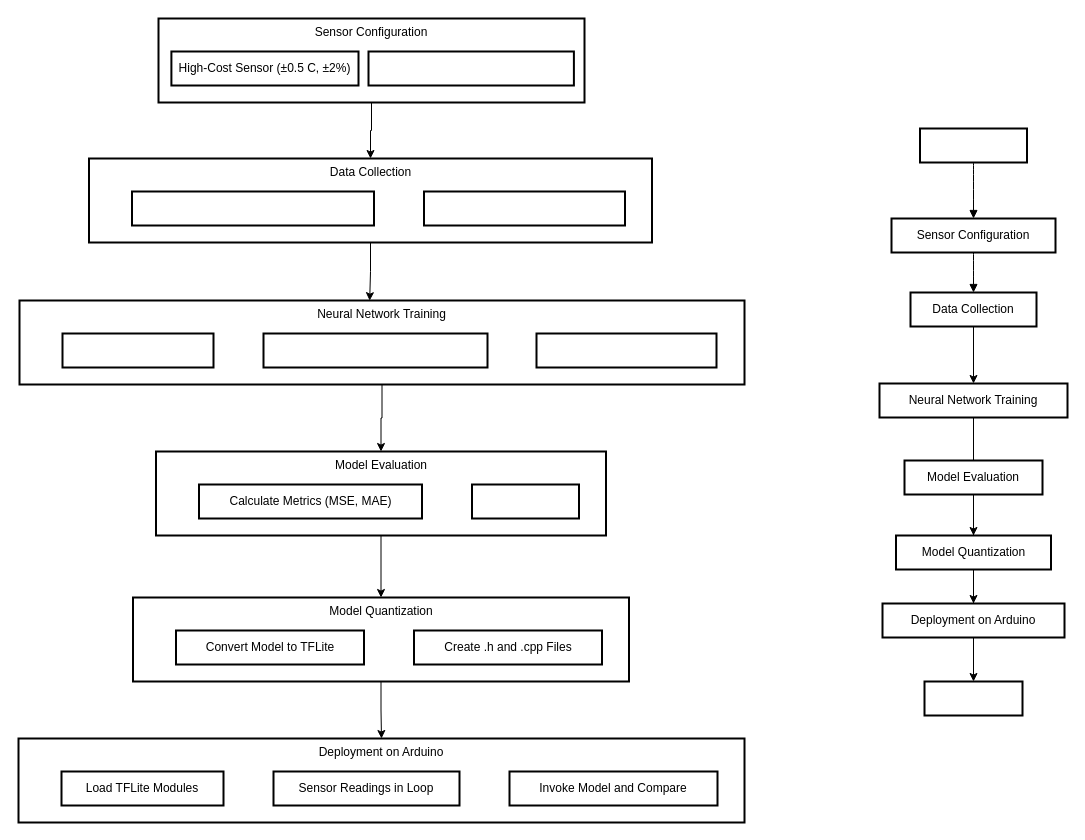
Image size: 1085x840. Some labels were removed from this diagram. The shapes that lost their labels are listed below. From the top down, each one's centre as x and y in pixels, then its label:
the point at 470,68: Low-Cost Sensor (±2 C, ±5%)
the point at 973,145: Project Start
the point at 252,208: Serial Communication with Pico
the point at 524,208: Data Accumulation as CSV
the point at 137,350: Data Preprocessing
the point at 375,350: Model Building in TensorFlow
the point at 626,350: Training and Validation
the point at 525,501: Visualization
the point at 973,698: Project End
